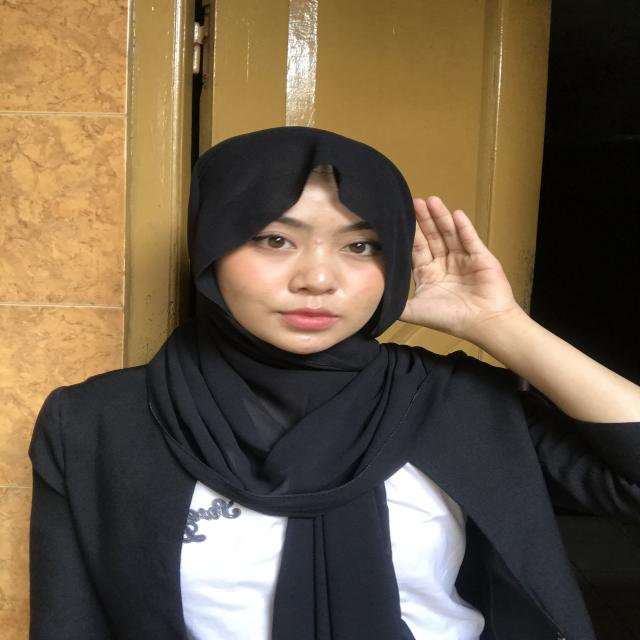mendengar: (370, 190, 521, 364)
